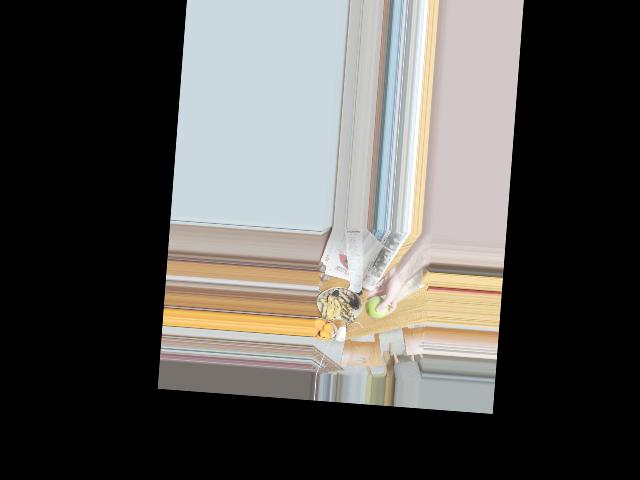apple: (364, 292, 386, 320)
